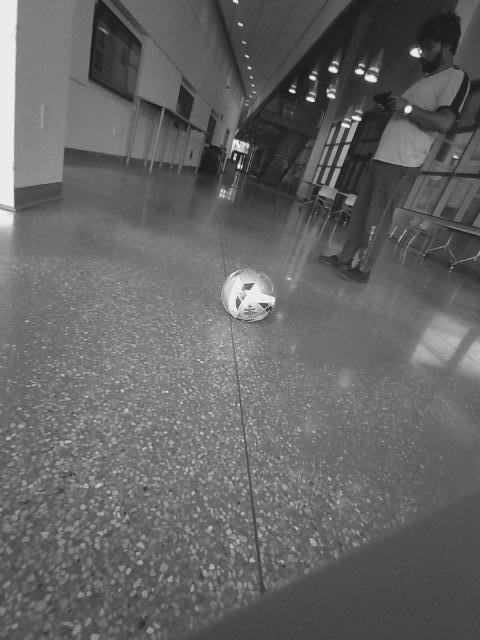ball: (219, 265, 282, 325)
